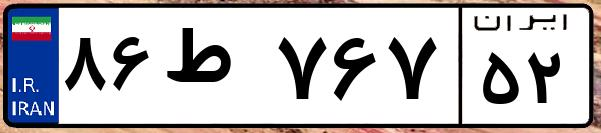2: (525, 38, 570, 115)
5: (475, 38, 525, 113)
6: (330, 28, 385, 110), (110, 28, 158, 98)
7: (270, 28, 330, 110), (385, 28, 445, 110)
8: (57, 26, 110, 100)
ط: (158, 20, 270, 120)
